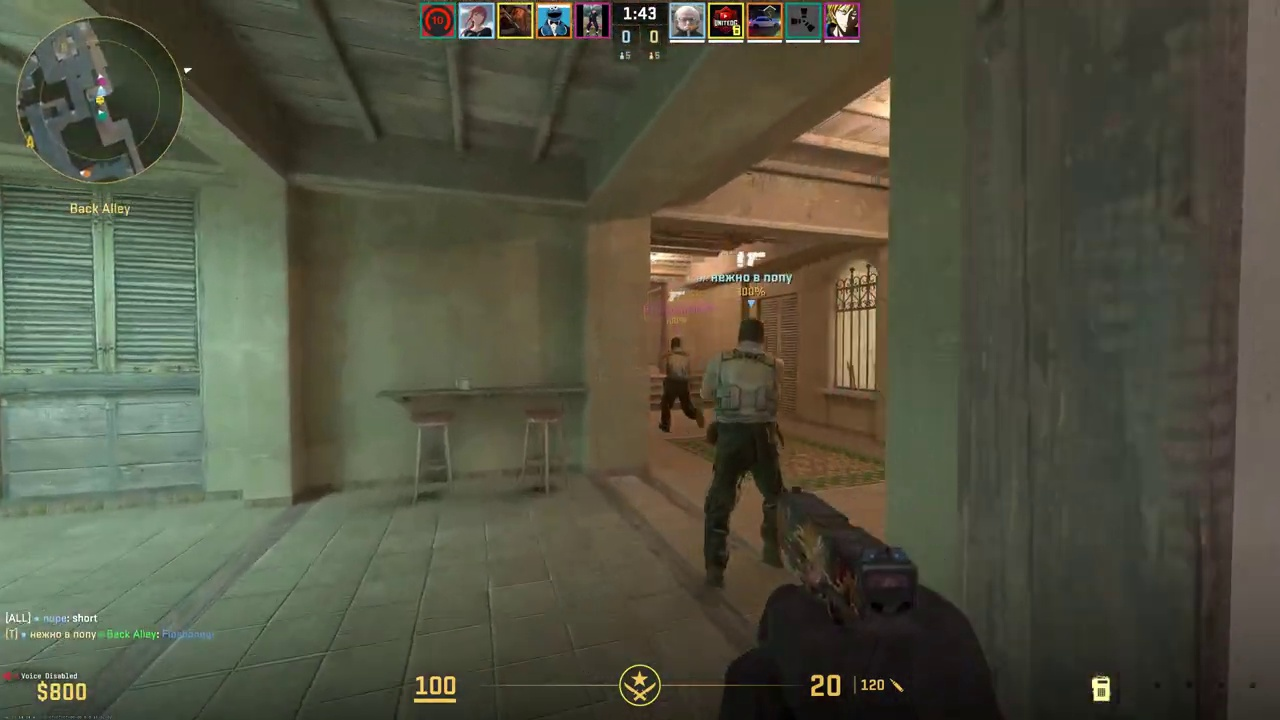Terrorist: (702, 318, 786, 589), (658, 336, 702, 433)
